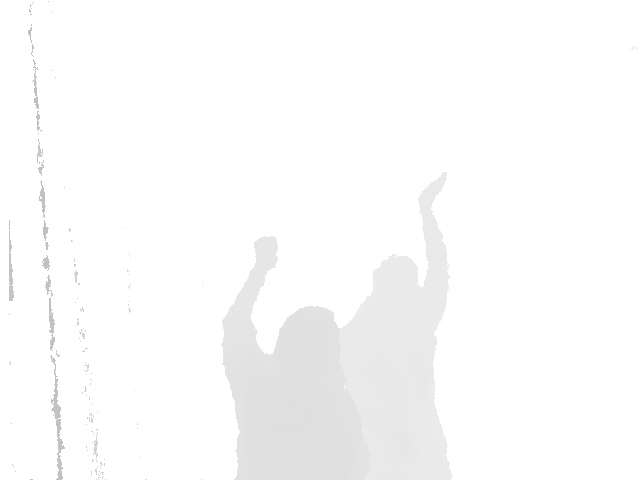hand: (250, 235, 279, 274), (418, 171, 448, 208)
head: (275, 305, 340, 387), (371, 254, 418, 307)
person: (219, 235, 374, 480), (336, 171, 452, 479)
